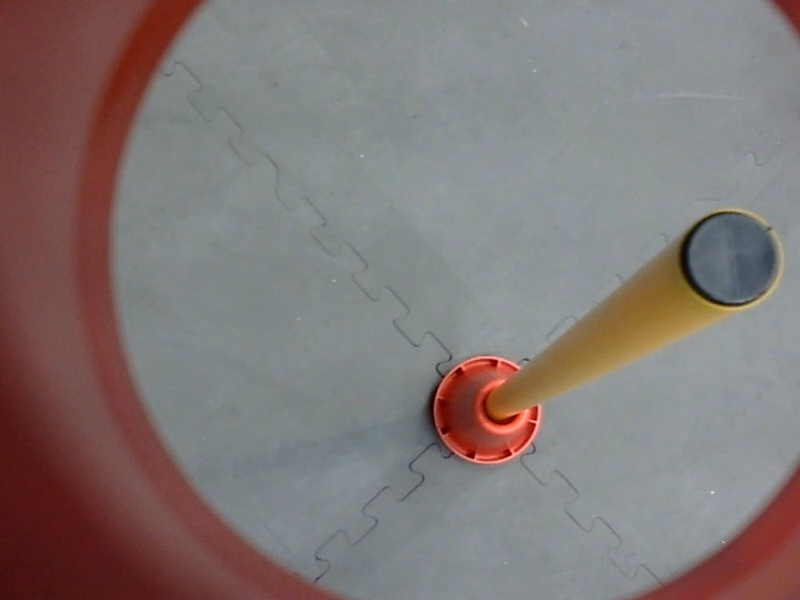tip: (673, 198, 788, 322)
